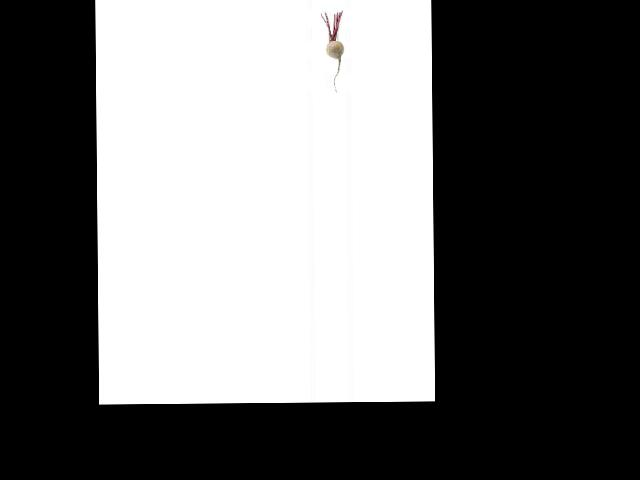beet: (321, 11, 344, 93)
